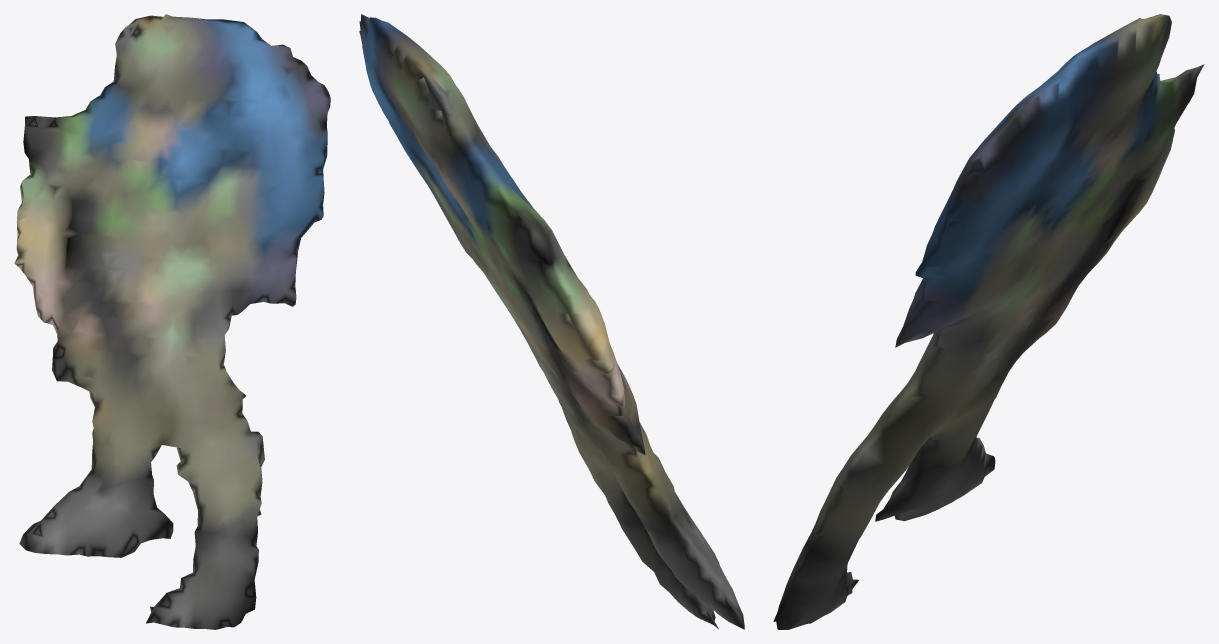
File: navy_seal.glb
3 views of the same model, side by side, from view 1: azimuth 30°, elevation 25°; view 2: azimuth 150°, elevation 25°; view 3: azimuth 270°, elevation 25° (orthographic). The views are drawn at different scales.
Visible parts, largest first — view 1: navy_seal; view 2: navy_seal; view 3: navy_seal.
Part boxes in pixels (x1,y1,x2,y2): navy_seal: [14, 14, 330, 629]; navy_seal: [359, 14, 744, 629]; navy_seal: [773, 14, 1204, 629].
Size of the model in its own units: 1.25 by 1.98 by 1.17.
